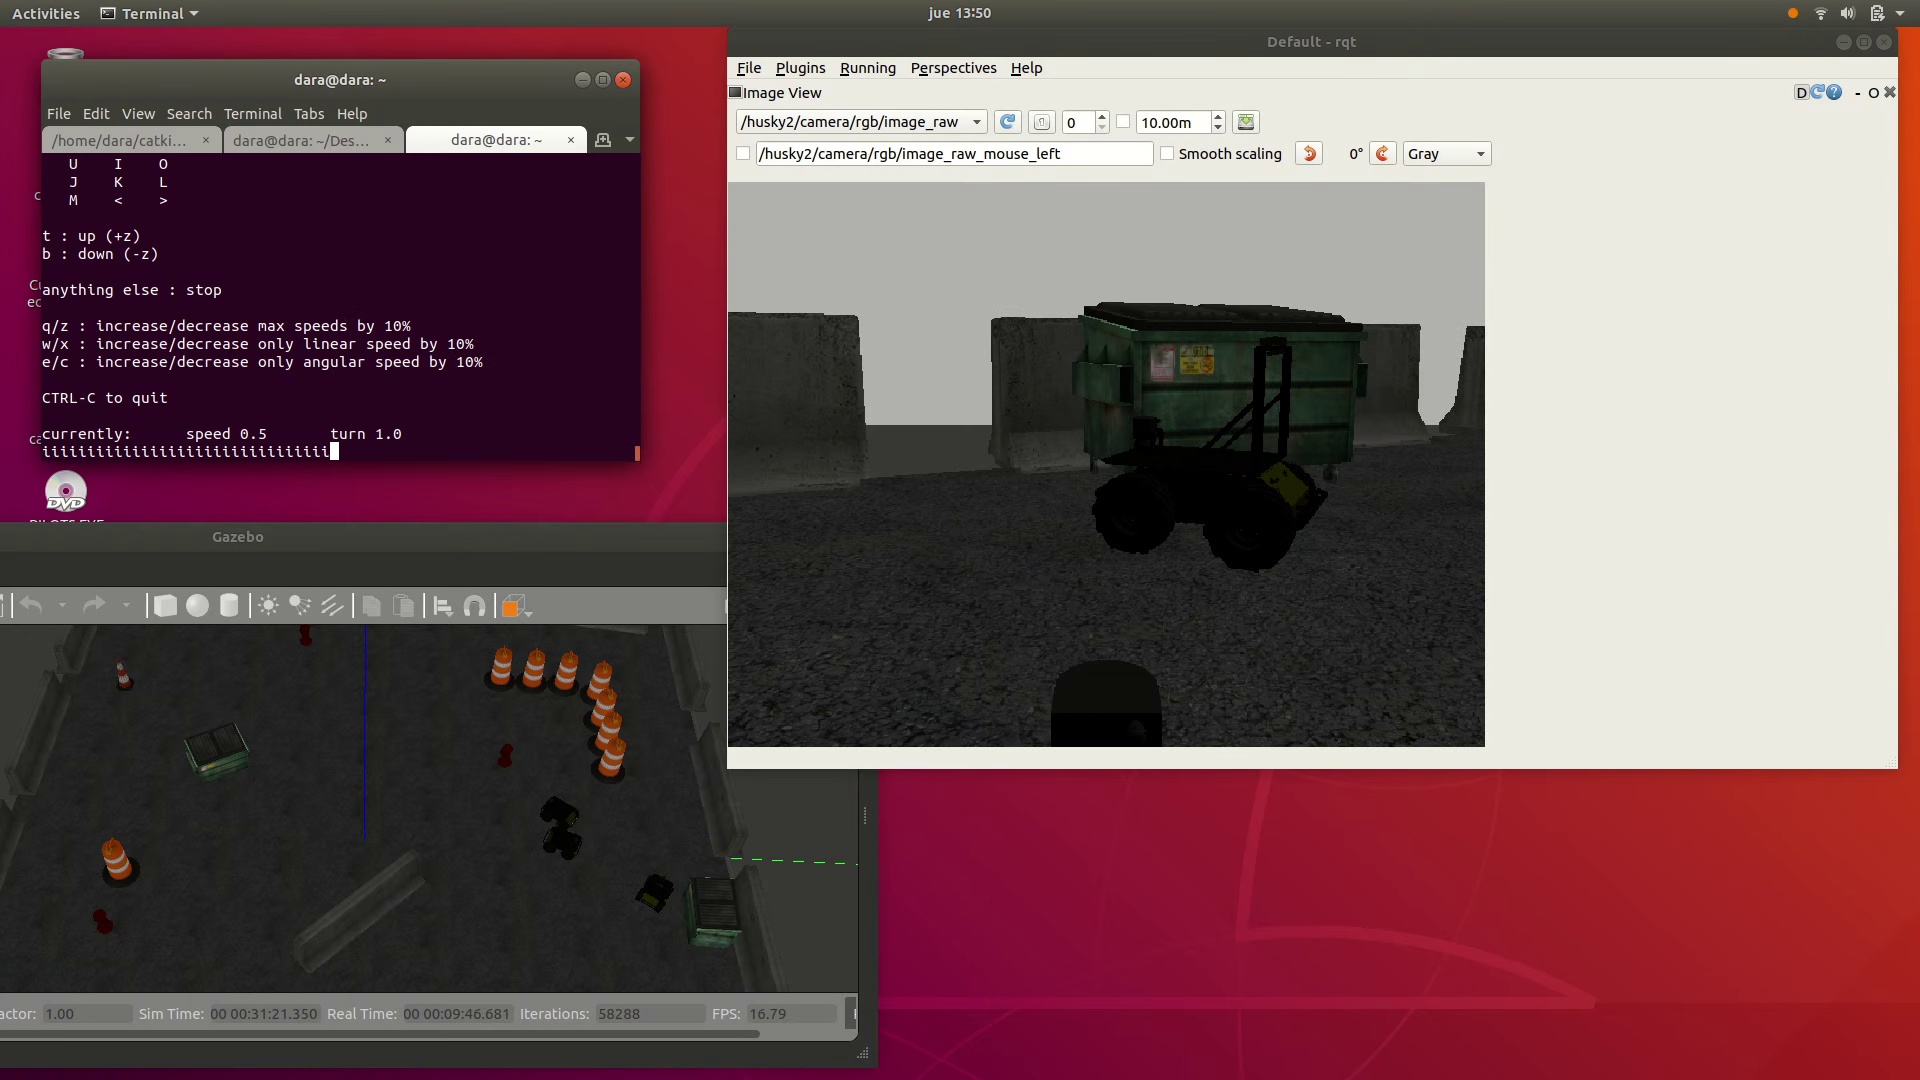husky: (1093, 447, 1329, 572), (636, 873, 674, 912), (541, 796, 580, 832), (542, 827, 583, 860)
